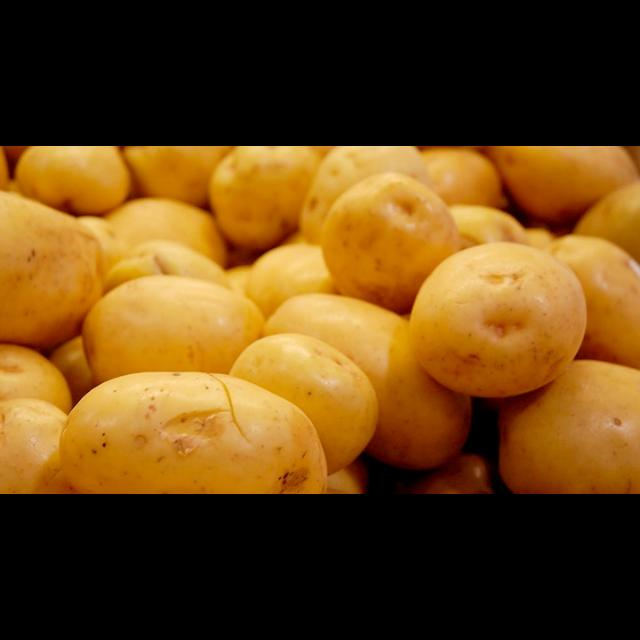Potato: (258, 290, 478, 478), (403, 238, 592, 404), (79, 274, 271, 402), (318, 170, 464, 326), (220, 335, 382, 475)
